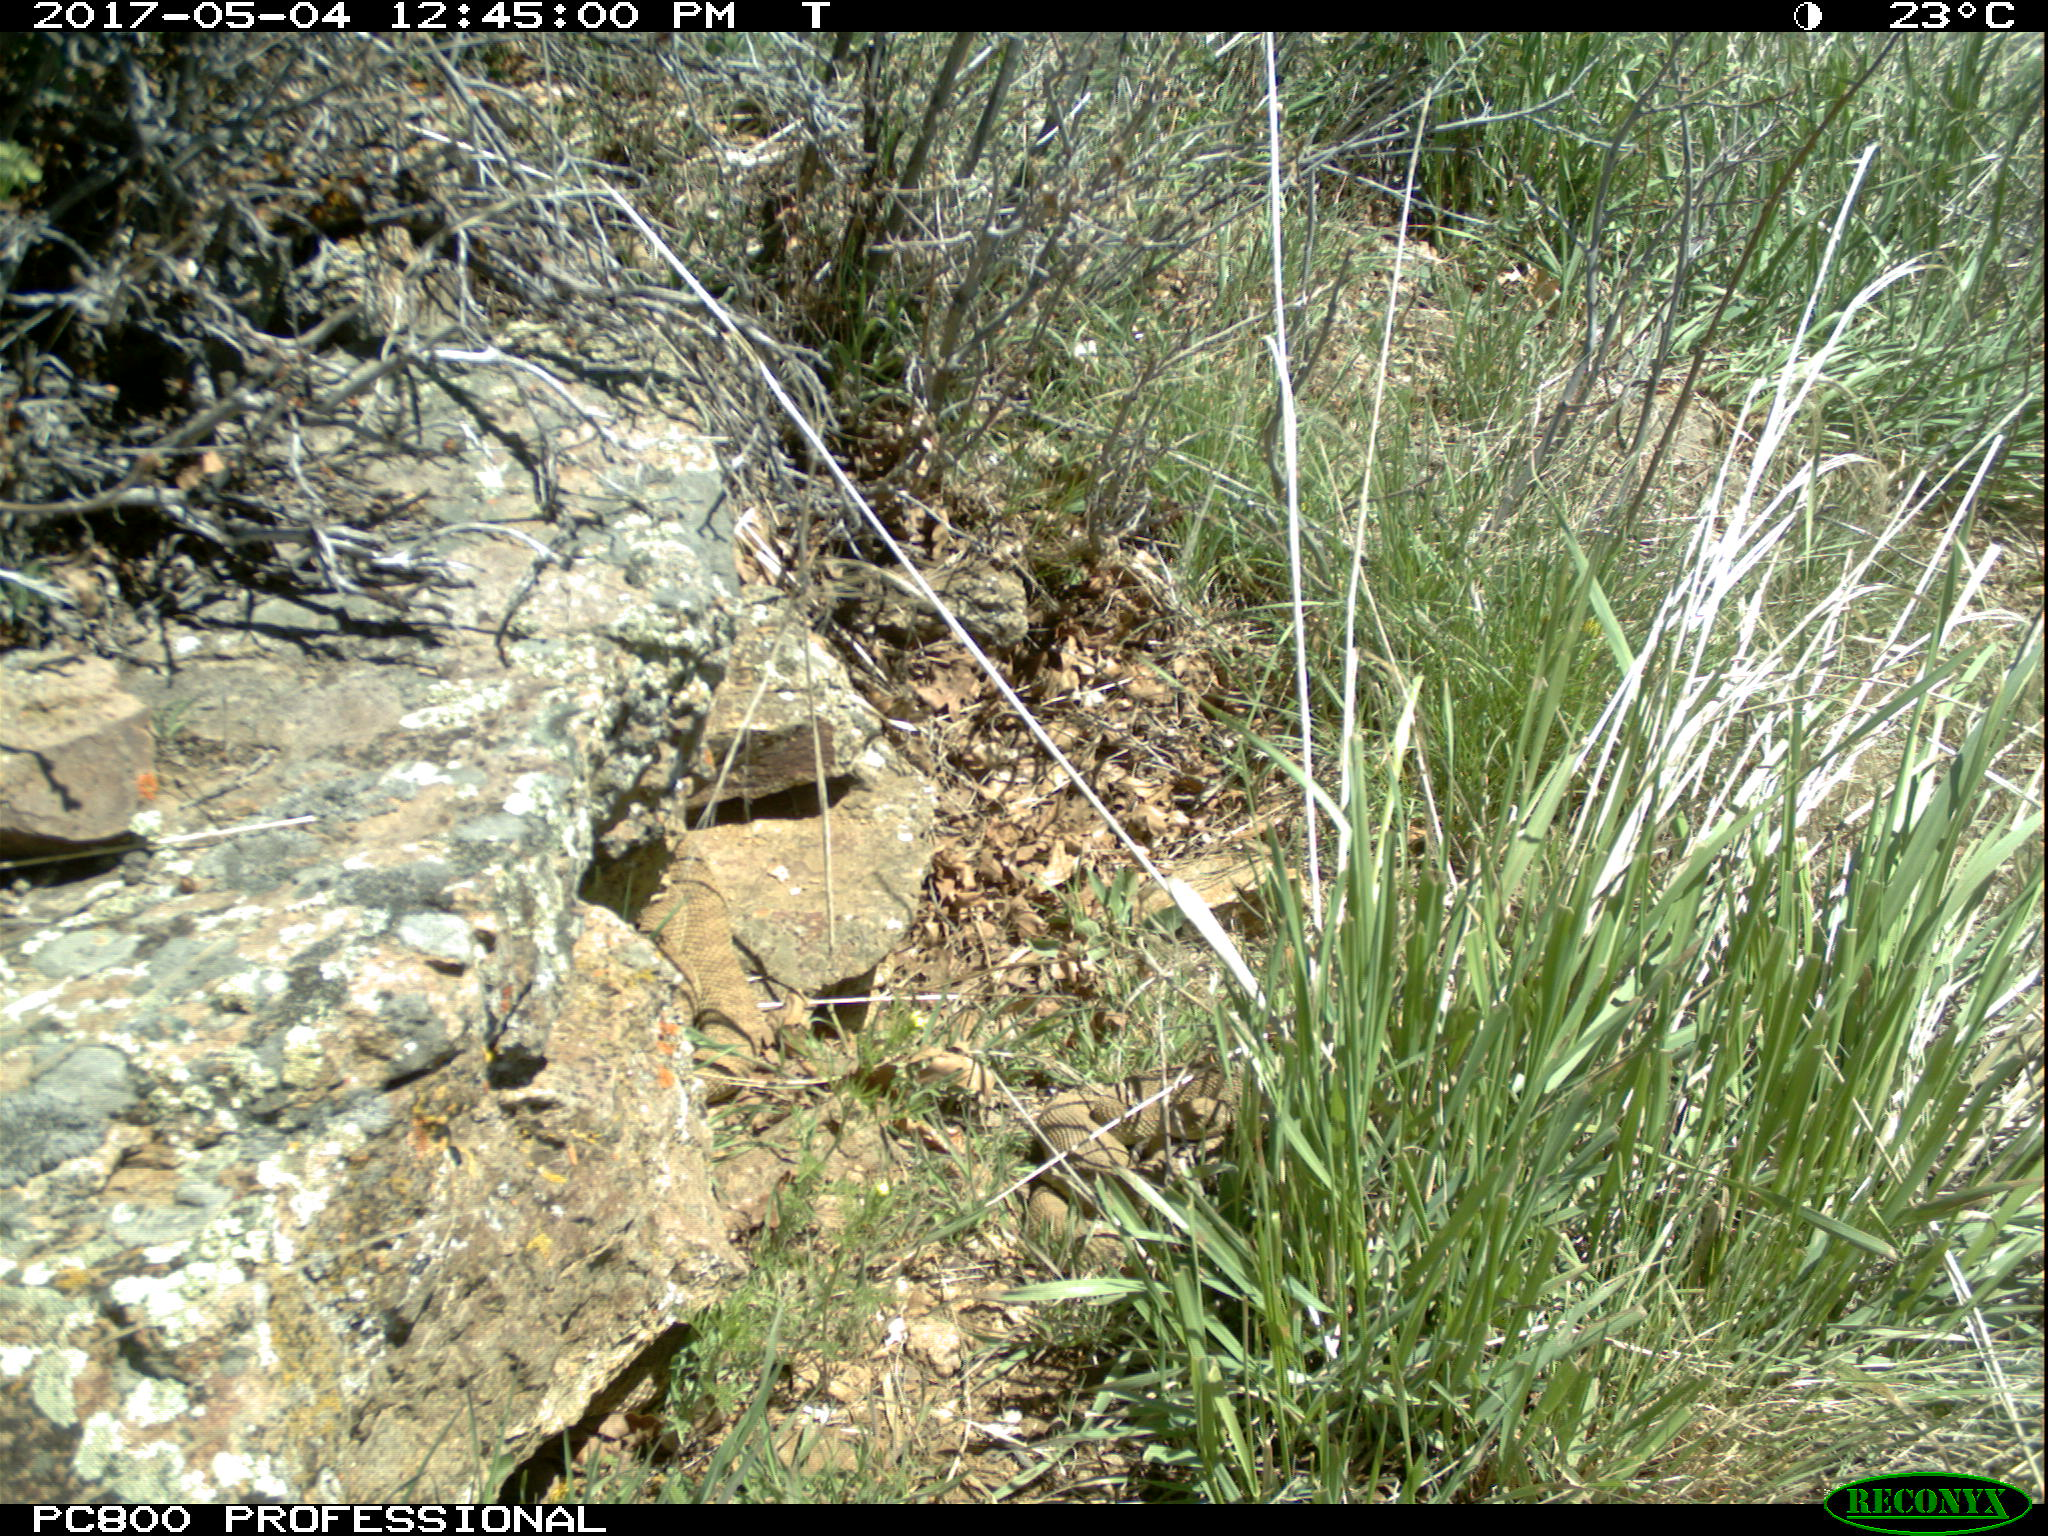snake: (1022, 1081, 1264, 1288), (639, 854, 771, 1113)
